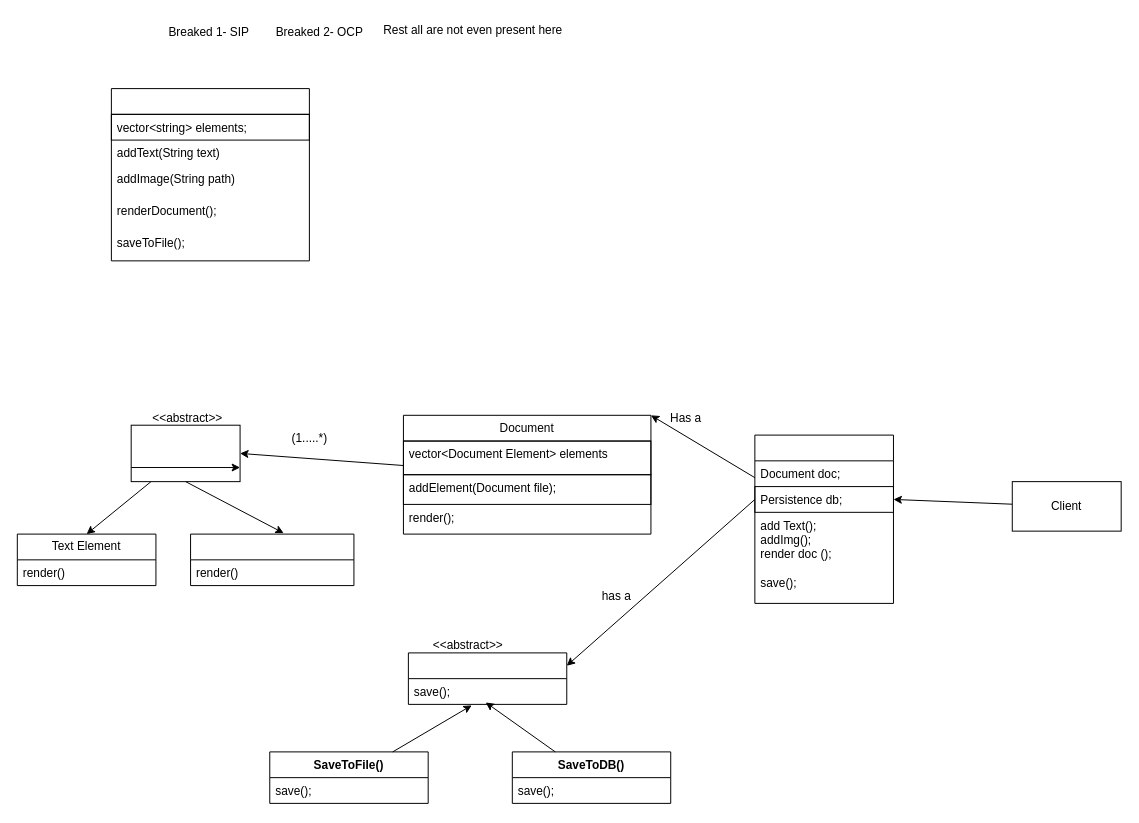
Image size: 1139x823. Some labels were removed from this diagram. The shapes that lost their labels are listed below. From the top down, each one's box as (x1, y1, x2, y2) in pixels, then its label:
(110, 88, 309, 261): Document Editor
(130, 424, 240, 482): Document Element renders()
(754, 434, 893, 603): DocumentEditor
(190, 533, 354, 586): Image Element
(407, 652, 567, 704): Persistence
